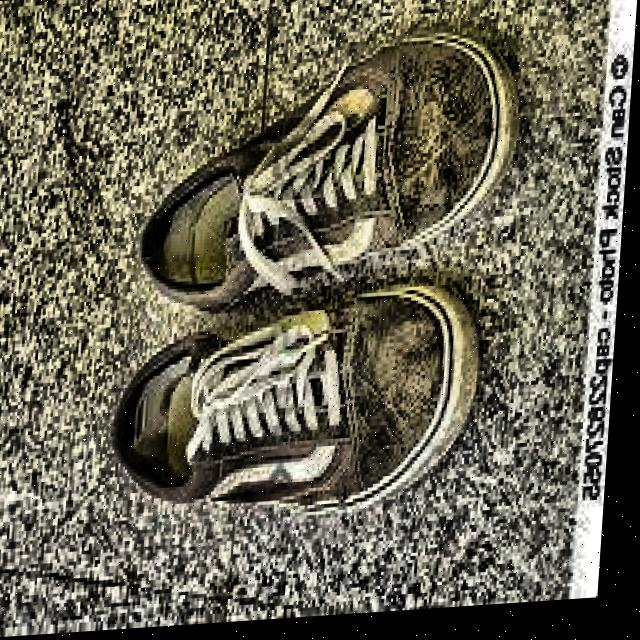shoes: (99, 21, 535, 526)
